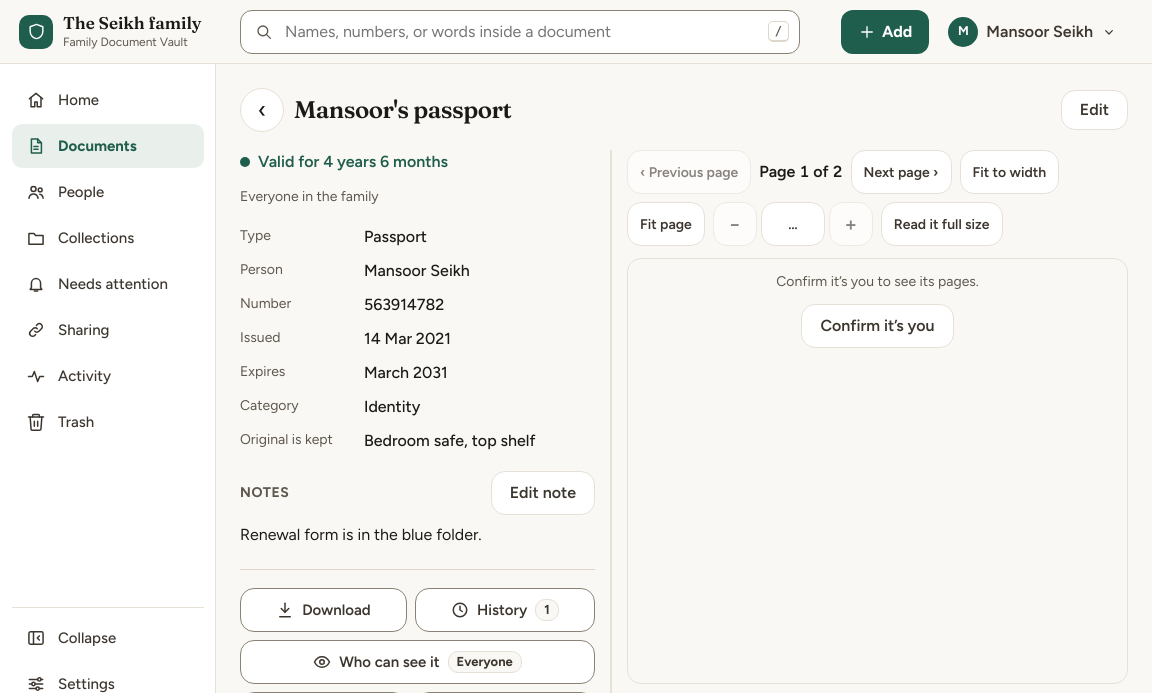
the pages, at 1280 px (R3) › an Essential document asks nothing on arrival: its pages wait for “Confirm it’s you”
Expected: the text "Confirm it’s you to see its pages." is shown, top-left (776, 271), bottom-right (979, 292)
Click the button "Confirm it’s you": (878,326) top-left (801, 304), bottom-right (954, 348)
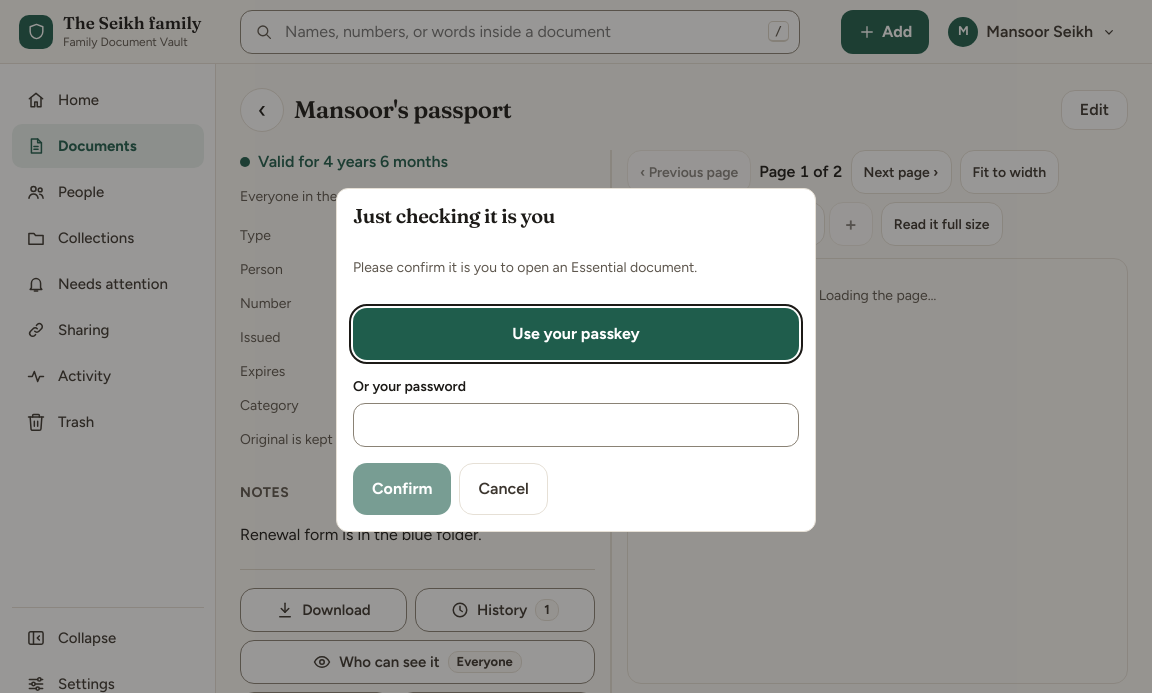
Expected: the dialog is shown, top-left (336, 188), bottom-right (816, 532)
